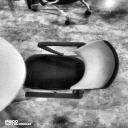chair_fail: (24, 40, 120, 99)
